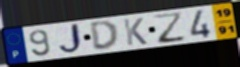4: (189, 8, 213, 40)
9: (28, 29, 53, 58)
D: (88, 19, 121, 51)
J: (57, 22, 85, 56)
K: (122, 17, 149, 47)
Z: (152, 10, 188, 45)
